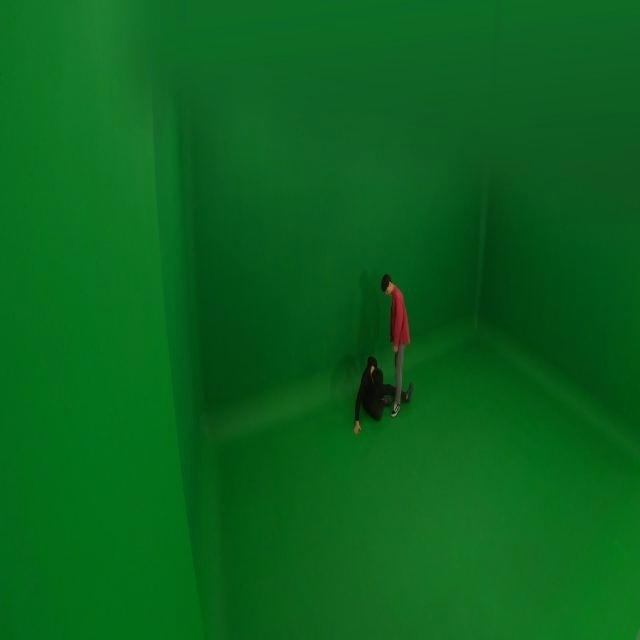fight: (348, 271, 413, 432)
